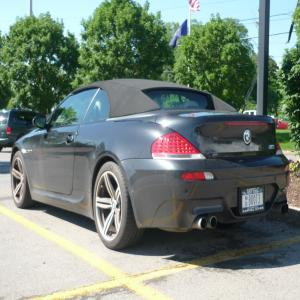Vehicle-registration-plate: (241, 186, 267, 217)
